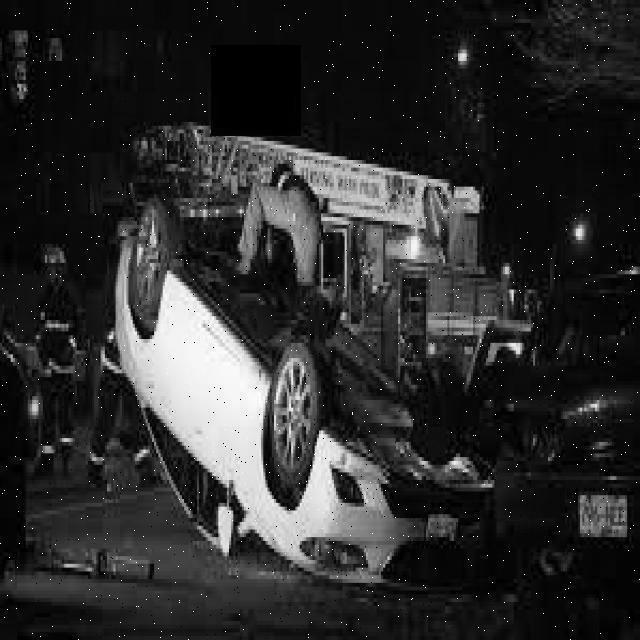accident: (113, 183, 464, 591)
vehicle: (388, 256, 540, 356)
